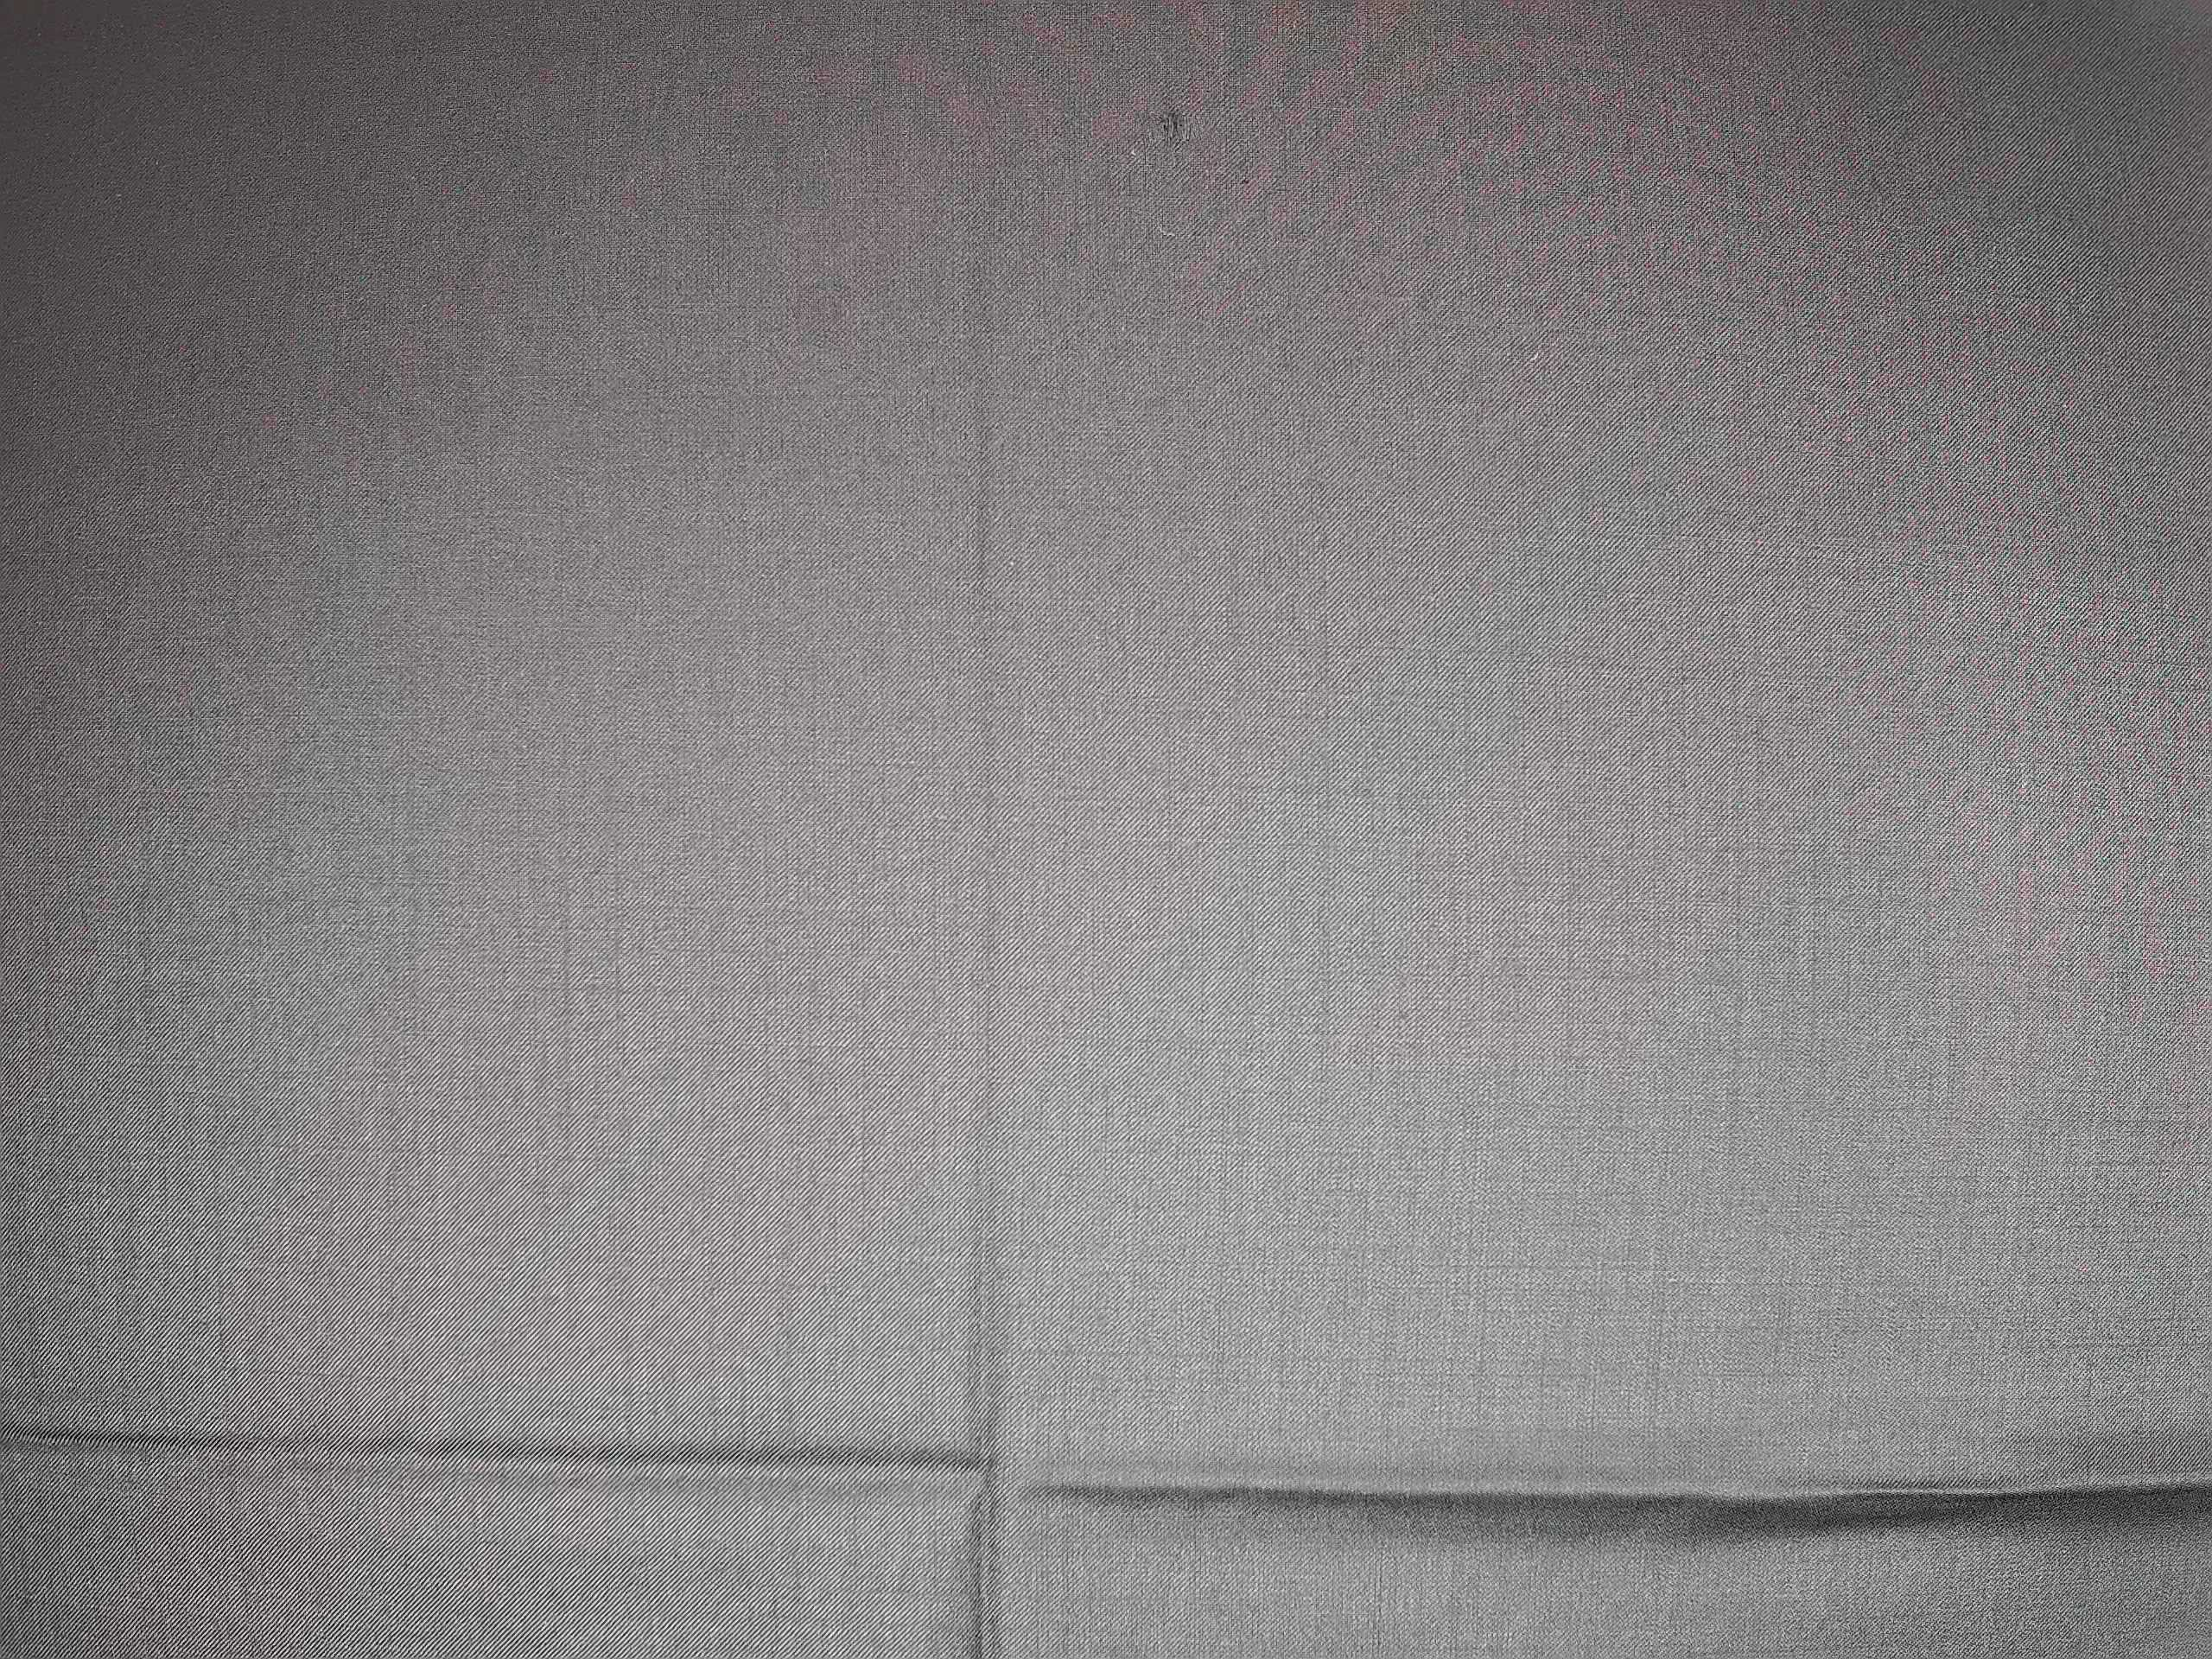brushed-hole: (1129, 85, 1223, 166)
